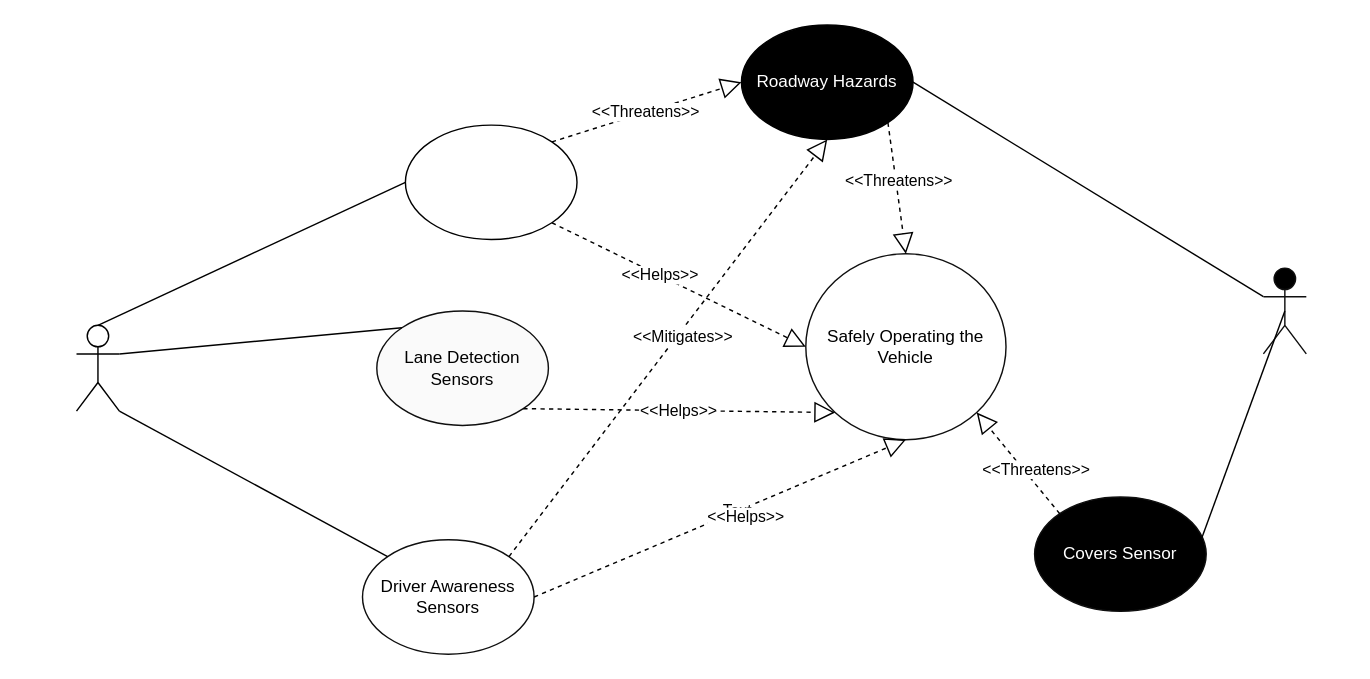
This 1370x679 diagram has some shape labels left out. The centre of each missing label's shape, as x and y in pixels:
Automatic self-drive shutoff: (x=490, y=182)
Malicious Agent: (x=1284, y=310)
OpenPilot Software: (x=97, y=367)
